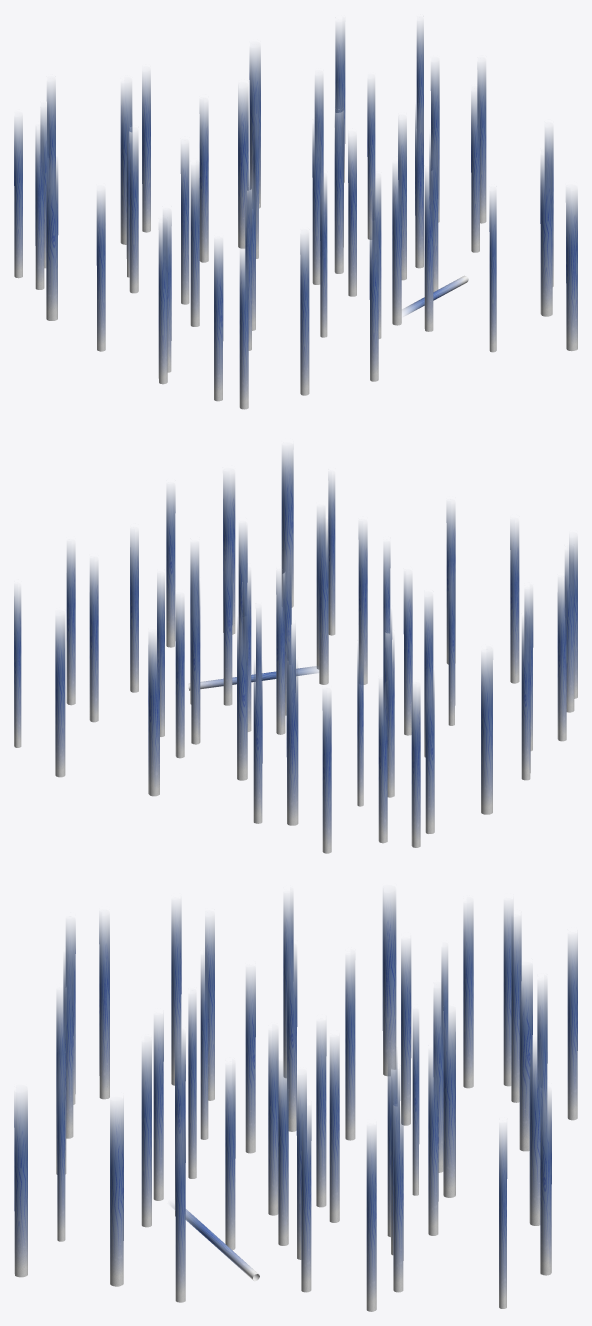
File: trees.glb
3 views of the same model, one above another, from view 1: azimuth 30°, elevation 25°; view 2: azimuth 150°, elevation 25°; view 3: azimuth 270°, elevation 25° (orthographic). The views are drawn at different scales.
Visible parts, largest first — view 1: trees; view 2: trees; view 3: trees.
Boxes of the visible parts, left/top/right/bottom form: trees: left=14, top=23, right=577, bottom=409; trees: left=14, top=448, right=577, bottom=853; trees: left=14, top=892, right=577, bottom=1311.
Size of the model in its own units: 67.54 by 25.87 by 66.82.
Materials: 1 (1 with a texture image).
